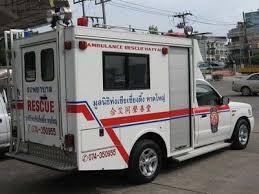Emergency-Vehicles: (5, 14, 256, 178)
